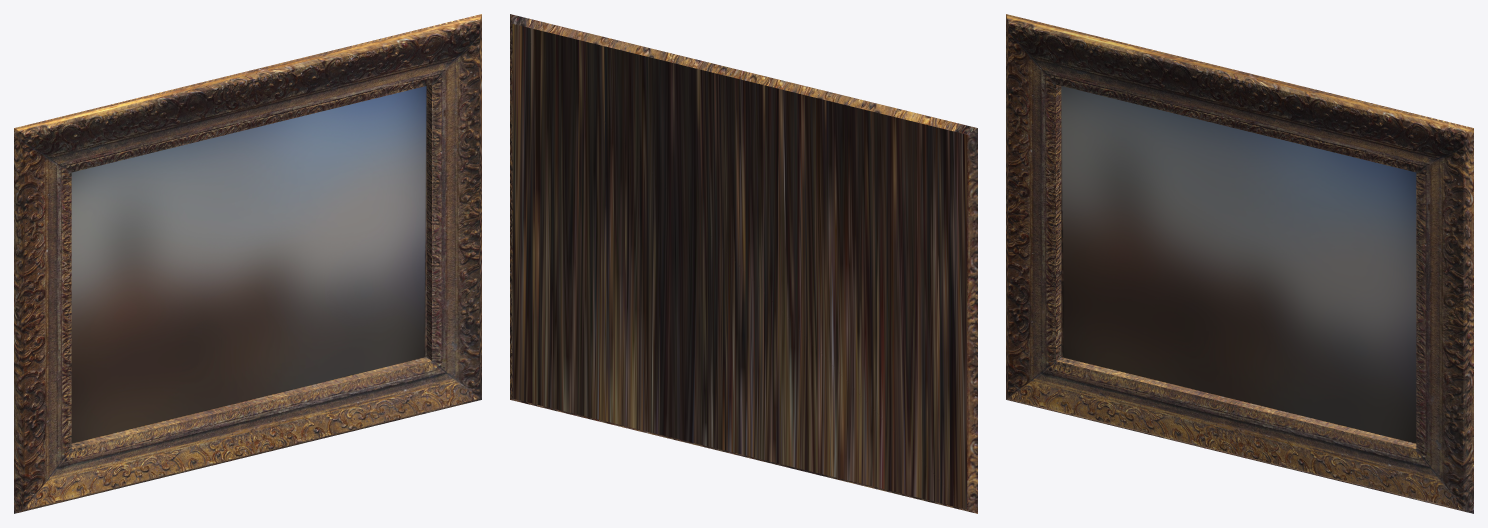
The model's file is quadro 015.fbx.
3 renders of one model, left to right at view 1: azimuth 30°, elevation 25°; view 2: azimuth 150°, elevation 25°; view 3: azimuth 330°, elevation 25°, orthographic.
Parts seen in each view (by area): view 1: quadro 015; view 2: quadro 015; view 3: quadro 015.
Part boxes in pixels (x1,y1,x2,y2): quadro 015: (14, 14, 481, 513); quadro 015: (510, 14, 977, 513); quadro 015: (1006, 14, 1473, 513).
Bounding box in the file's own units: 137 × 108 × 3.91.
